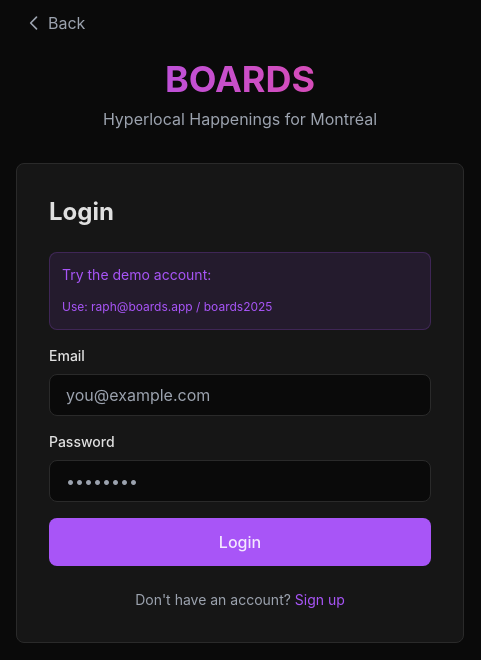
it: Login Component › fills form with demo credentials when clicking demo button
Click the button "Use: raph@boards.app / boards2025" at (167, 307), box [62,299,272,315]
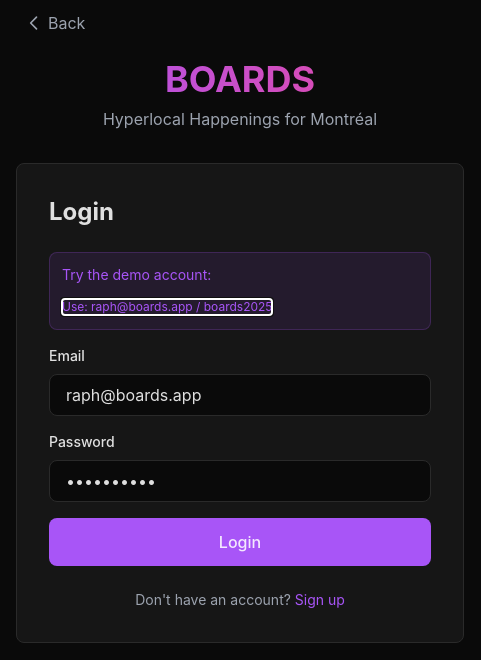
Expected: the field labelled "Email" holds "raph@boards.app", [49,374,431,416]
Expected: the password field labelled "Password" holds "boards2025", [49,460,431,502]
